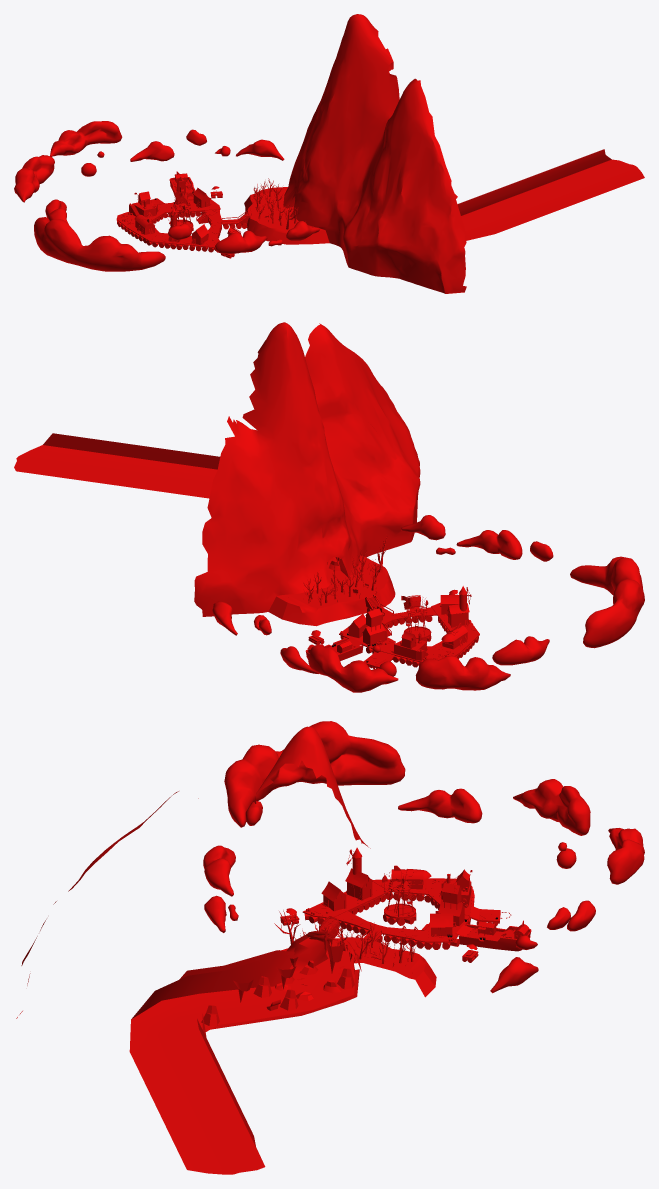
The model's file is Individual_BearTown_03.glb.
3 renders of one model, top to bottom at view 1: azimuth 30°, elevation 25°; view 2: azimuth 150°, elevation 25°; view 3: azimuth 270°, elevation 25°, orthographic. The views are drawn at different scales.
Visible parts, largest first — view 1: polySurface10, pasted__polySurface300_Group49711, polySurface9, pasted__pCube445; view 2: polySurface10, pasted__polySurface300_Group49711, polySurface9, pasted__polySurface242, pasted__polySurface230, pasted__pCube445; view 3: polySurface10, pasted__polySurface300_Group49711, polySurface9, polySurface11, pasted__polySurface301, pasted__polySurface230, pasted__polySurface242, pasted__pCube380.
Boxes of the visible parts, <box> form: polySurface10: <box>244,14,644,293</box>; pasted__polySurface300_Group49711: <box>14,121,319,271</box>; polySurface9: <box>117,199,249,247</box>; pasted__pCube445: <box>132,191,157,217</box>; polySurface10: <box>14,322,420,626</box>; pasted__polySurface300_Group49711: <box>212,515,644,692</box>; polySurface9: <box>339,594,479,662</box>; pasted__polySurface242: <box>362,606,386,645</box>; pasted__polySurface230: <box>447,586,469,627</box>; pasted__pCube445: <box>394,631,426,659</box>; polySurface10: <box>16,726,436,1174</box>; pasted__polySurface300_Group49711: <box>203,721,644,993</box>; polySurface9: <box>302,878,472,942</box>; polySurface11: <box>179,931,361,1029</box>; pasted__polySurface301: <box>456,924,531,951</box>; pasted__polySurface230: <box>345,847,372,900</box>; pasted__polySurface242: <box>435,880,465,925</box>; pasted__pCube380: <box>384,878,415,918</box>.
Bounding box in the file's own units: 223 × 80.56 × 155.
